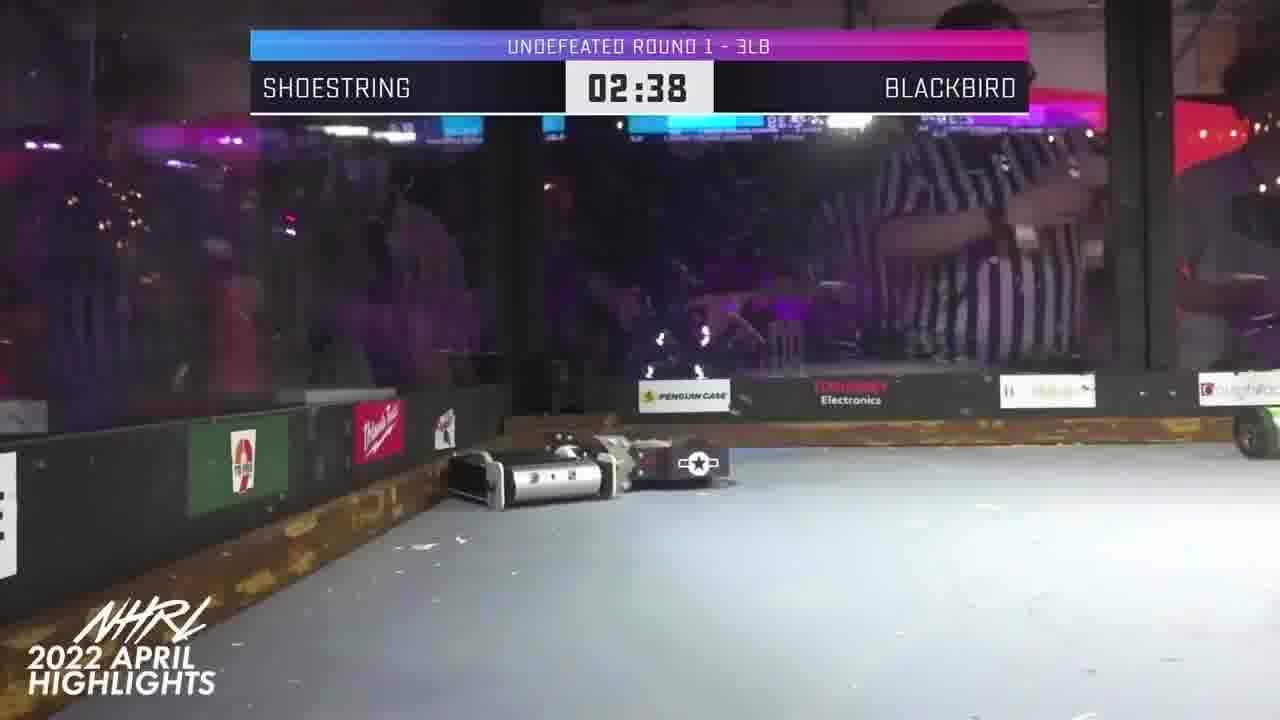combatbot: (447, 435, 633, 507), (593, 436, 737, 493), (1231, 401, 1280, 464)
